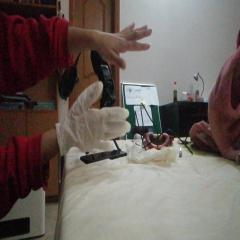gloved: (56, 82, 131, 154)
not-gloved: (86, 20, 153, 70)
